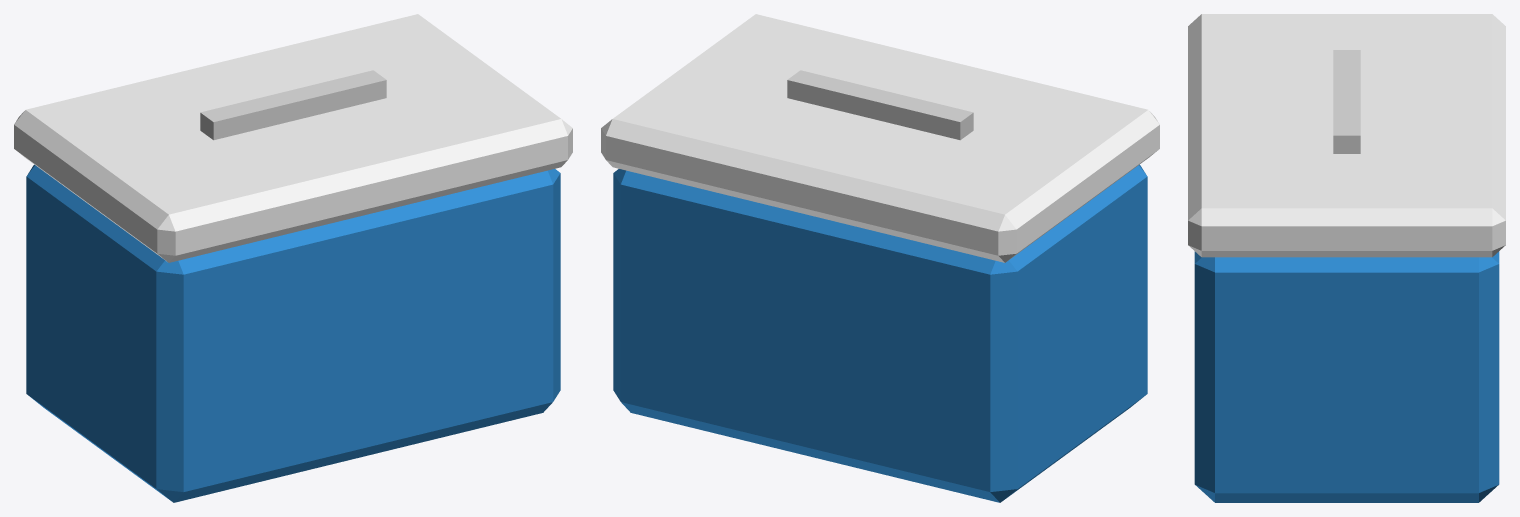
File: cooler.glb
The picture shows the model from 3 angles, left to right: view 1: azimuth 30°, elevation 25°; view 2: azimuth 150°, elevation 25°; view 3: azimuth 270°, elevation 25°; orthographic projection.
Parts seen in each view (by area): view 1: cooler; view 2: cooler; view 3: cooler.
Boxes of the visible parts, x1,y1,x2,y2 form: cooler: [14, 14, 572, 502]; cooler: [601, 14, 1159, 502]; cooler: [1188, 14, 1505, 502].
Size of the model in its own units: 0.72 by 0.52 by 0.47.
